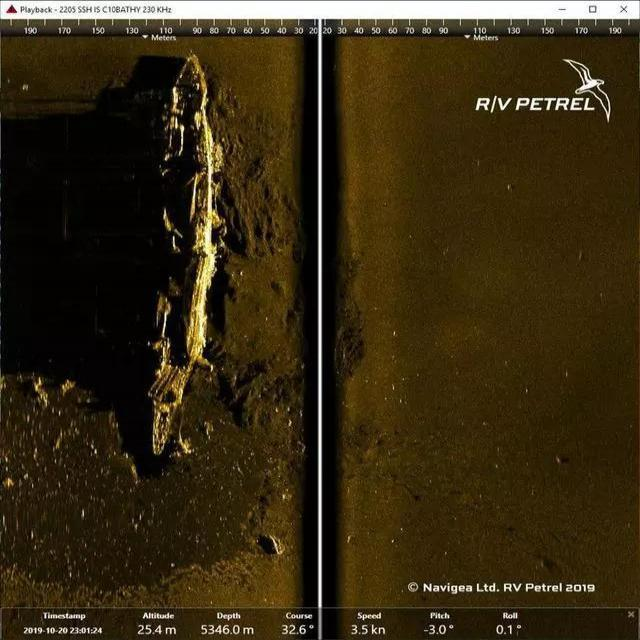shipwreck: (134, 46, 230, 456)
